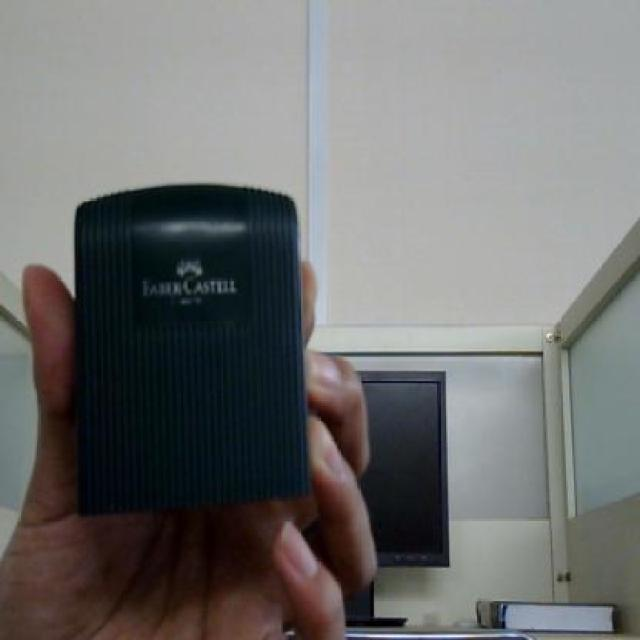Plastic: (66, 178, 314, 521)
